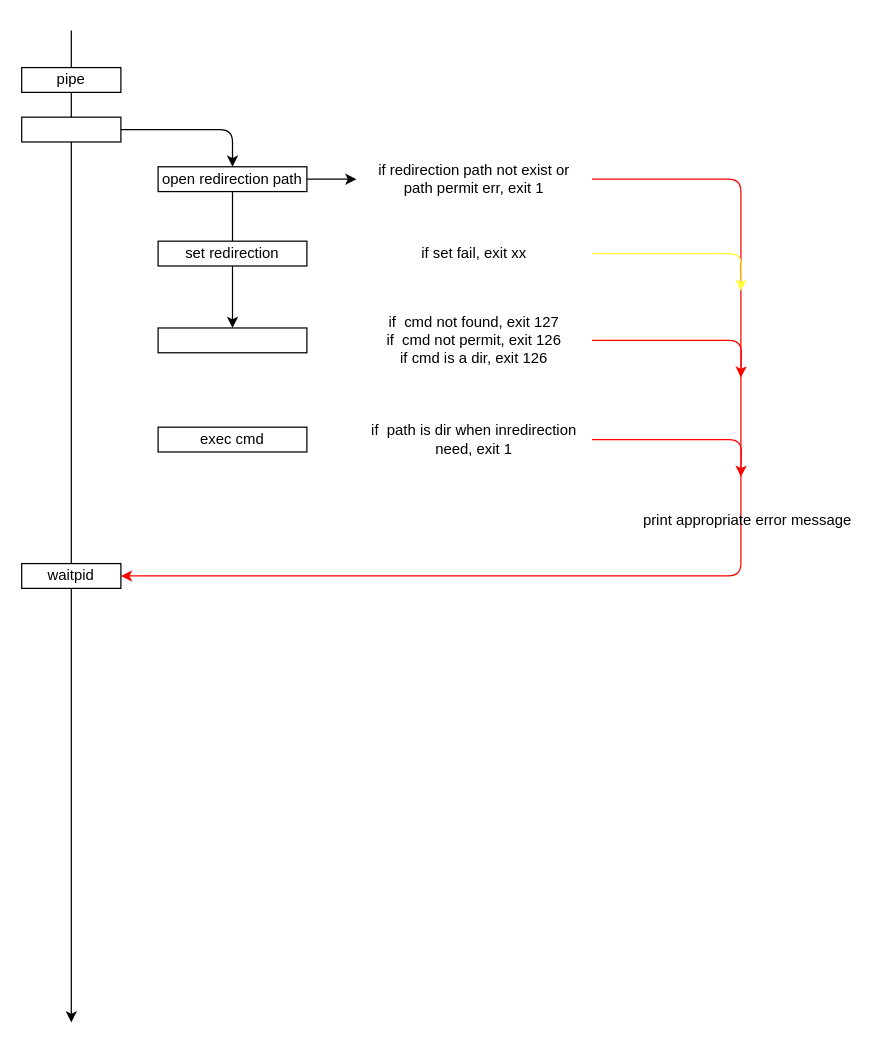
The diagram is 887 pixels wide and 1054 high, and some of its shapes have lost their labels. Each missing label, with the centre of its shape:
"fork" goes at point 70,129.
"search cmd" goes at point 232,340.
